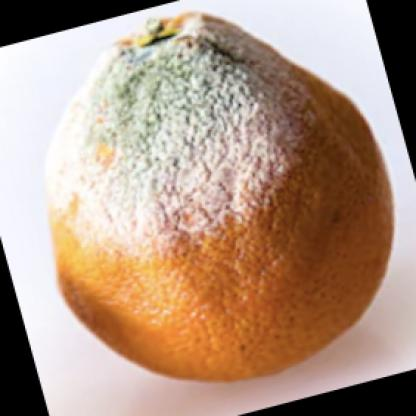rotten_orange: (37, 11, 400, 391)
